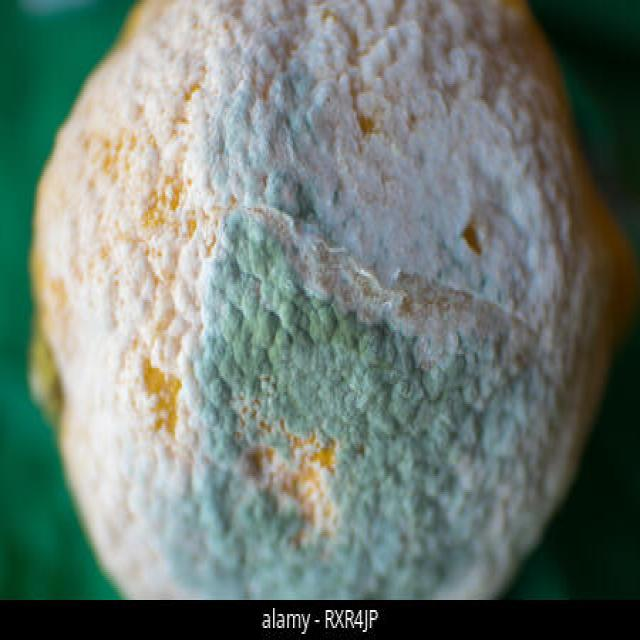Rotten: (24, 0, 640, 601)
